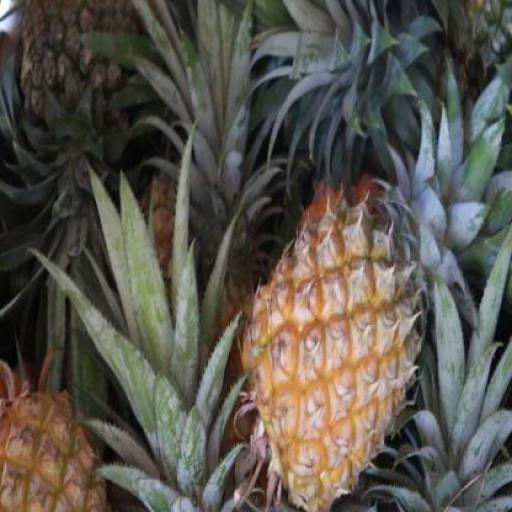Pineapple - v8 v1: (240, 192, 442, 512)
